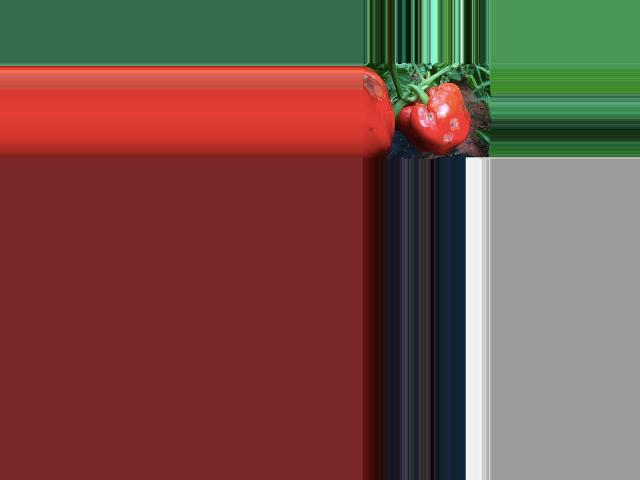bell_pepper: (398, 76, 467, 159)
